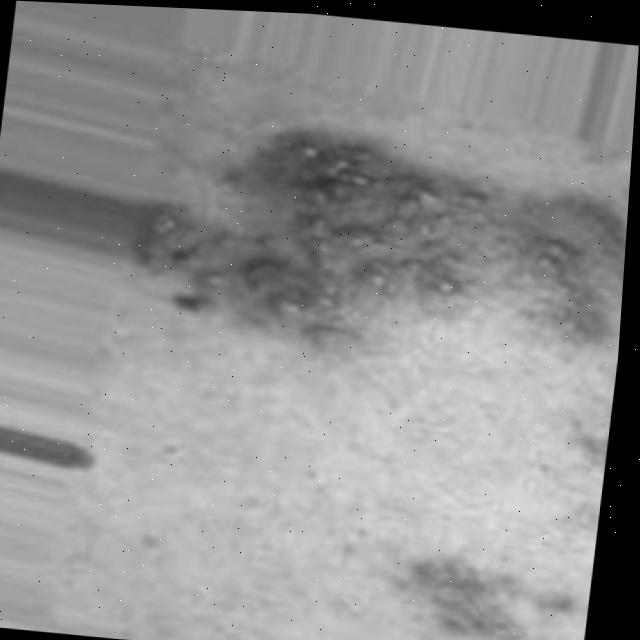Shingles: (117, 92, 634, 364), (389, 543, 558, 640)
